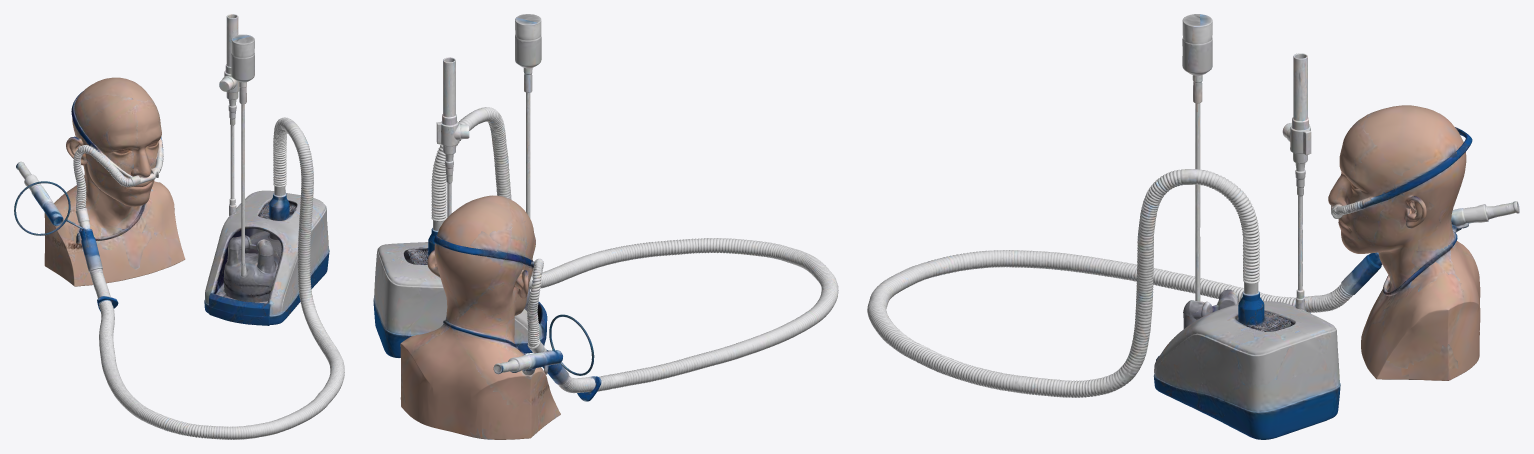
Rendered from HFNC.glb.
3 views of the same model, side by side, from view 1: azimuth 30°, elevation 25°; view 2: azimuth 150°, elevation 25°; view 3: azimuth 270°, elevation 25° (orthographic). The views are drawn at different scales.
Bounding box in the file's own units: 1.27 × 1.17 × 1.9.
1 material, 1 textured.
